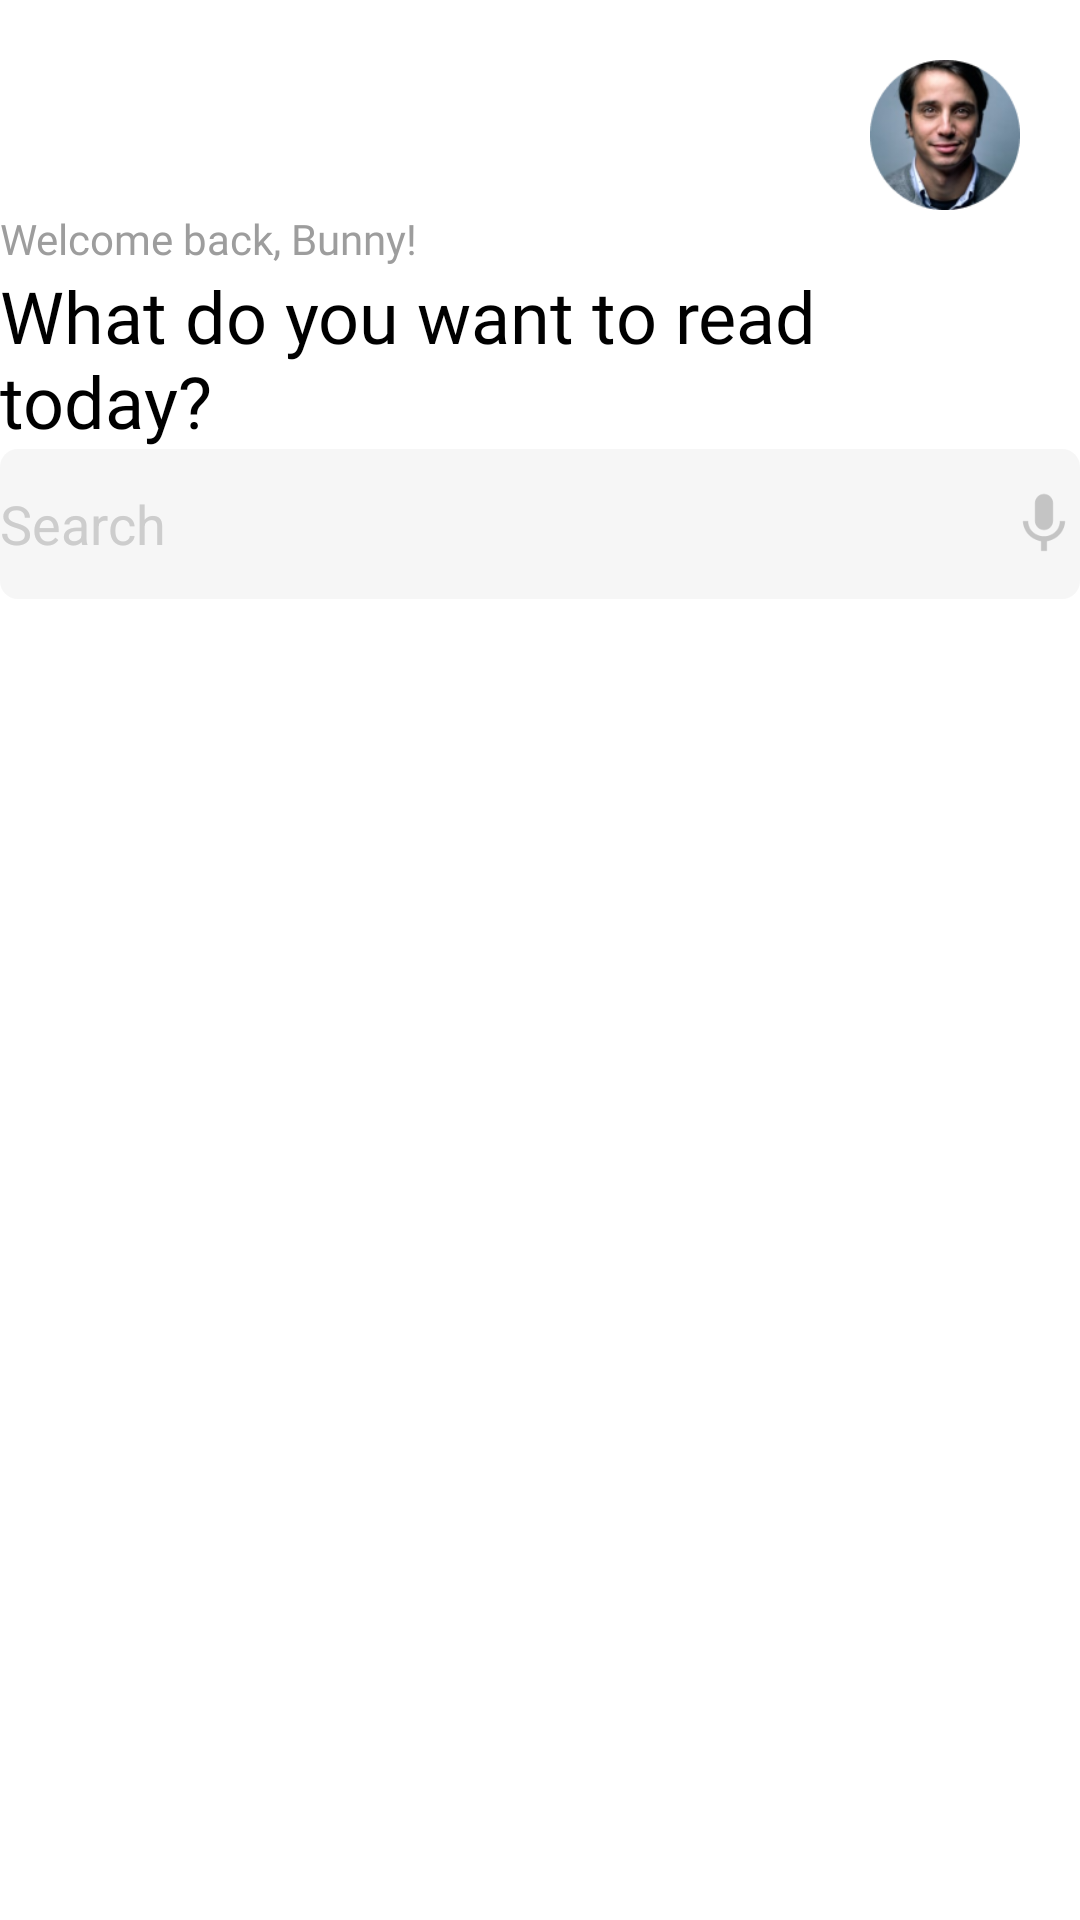

Locate icon controls on the screen. Image size 1080px x 1920px, boxes as (x1, y1, x2, y2).
profile: (870, 60, 1020, 210)
